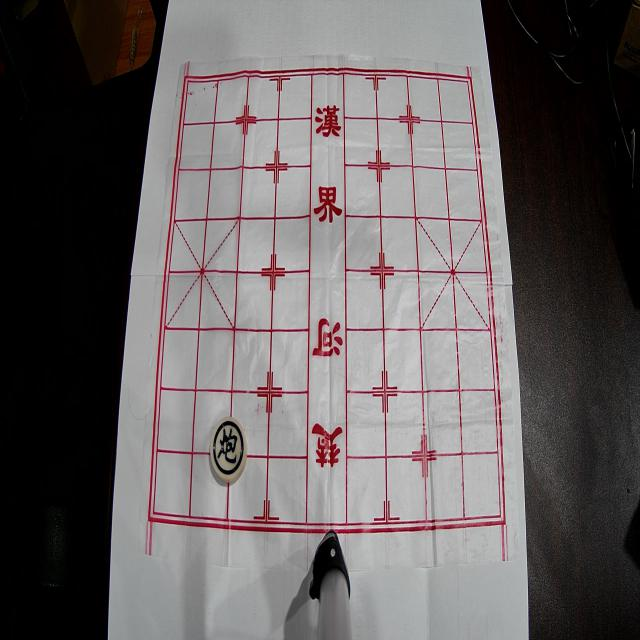black-cannon: (210, 417, 248, 483)
